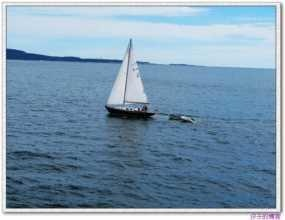fanchuan: (103, 37, 155, 121)
